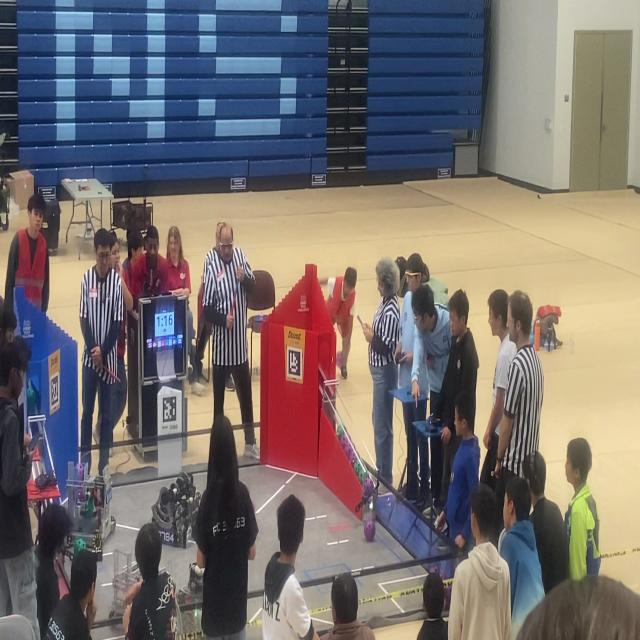artifact_green: (74, 539, 86, 554), (356, 461, 364, 477), (353, 462, 360, 479), (353, 460, 360, 475), (359, 469, 367, 482), (337, 424, 344, 438), (354, 469, 361, 483), (362, 470, 369, 484)
artifact_purple: (364, 520, 375, 542), (363, 477, 374, 499), (443, 586, 451, 610), (344, 441, 353, 460), (340, 434, 349, 452), (349, 450, 357, 466), (336, 352, 342, 367)
